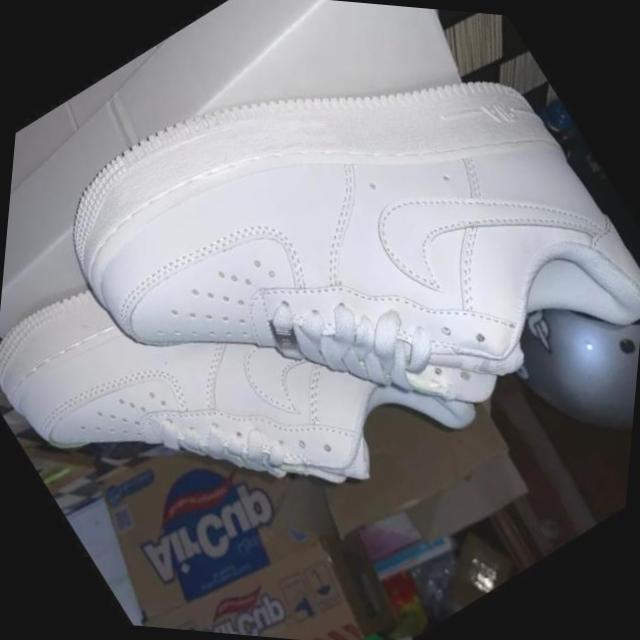nike_fake_airforce: (6, 0, 640, 589), (0, 138, 462, 640)
